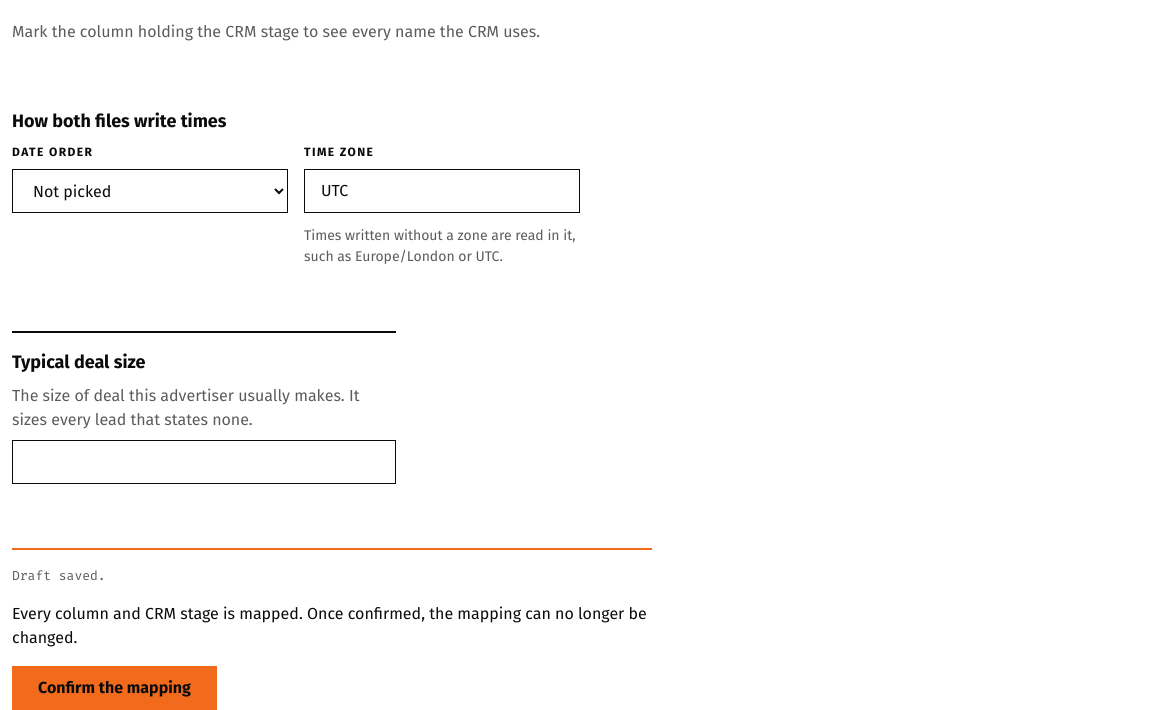
Scenario: ReviewStep › confirms as a separate act and then shows the mapping confirmed and when
The width and height of the screenshot is (1176, 710).
(page scrolled)
Click the button "Confirm the mapping" at (114, 688), box [12,666,217,709]
(page scrolled)
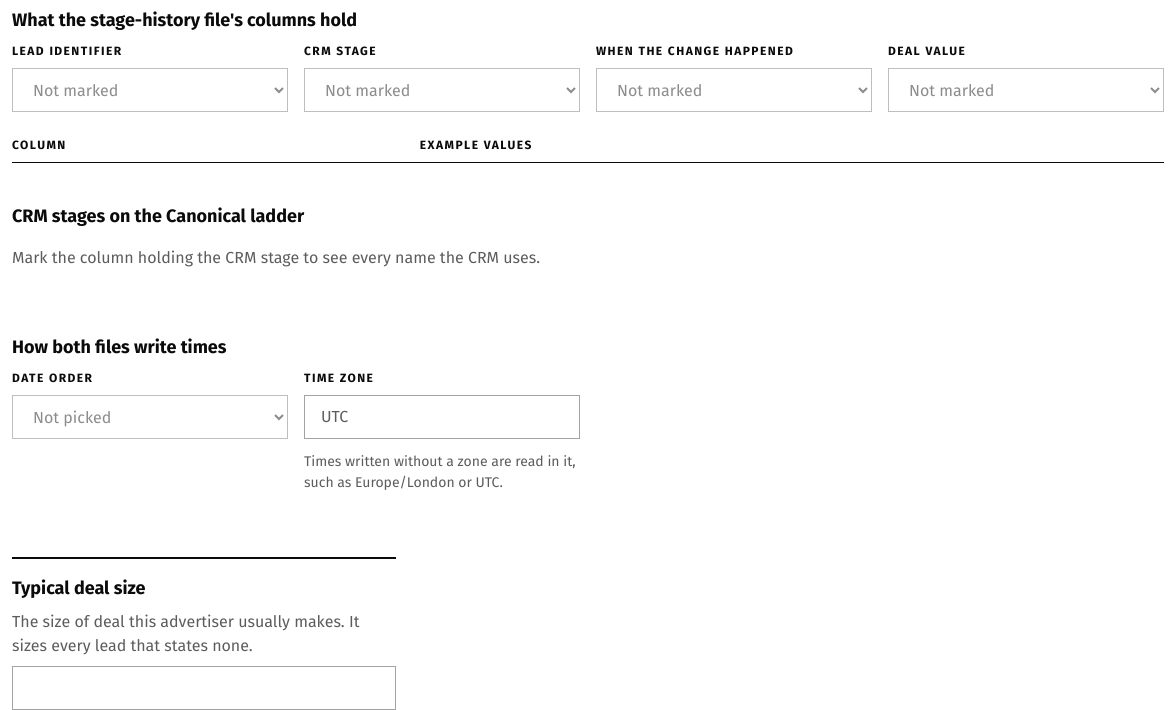
Check: the number field labelled "Typical deal size" is disabled, box [12,666,396,709]
Check: the button "Confirm the mapping" is gone
